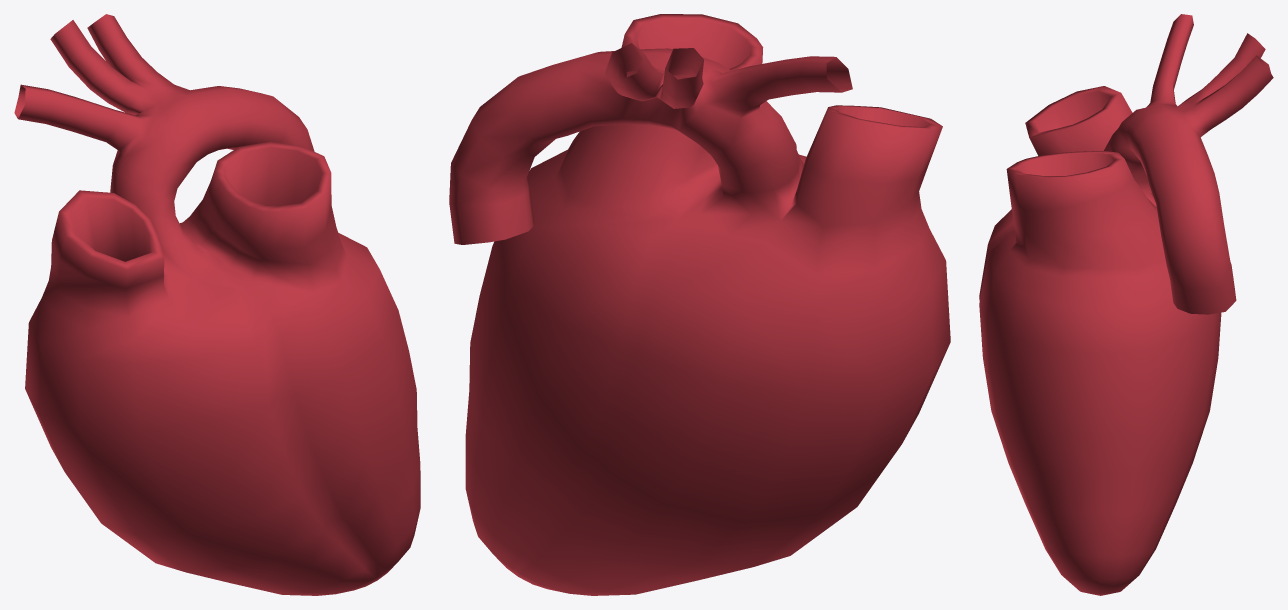
The model's file is Quest_Heart.glb.
3 views of the same model, side by side, from view 1: azimuth 30°, elevation 25°; view 2: azimuth 150°, elevation 25°; view 3: azimuth 270°, elevation 25° (orthographic). The views are drawn at different scales.
Parts seen in each view (by area): view 1: Quest_Heart; view 2: Quest_Heart; view 3: Quest_Heart.
Boxes of the visible parts, left/top/right/bottom form: Quest_Heart: left=14, top=14, right=420, bottom=595; Quest_Heart: left=449, top=14, right=950, bottom=595; Quest_Heart: left=979, top=14, right=1273, bottom=595.
Size of the model in its own units: 0.2867 by 0.4 by 0.2243.
